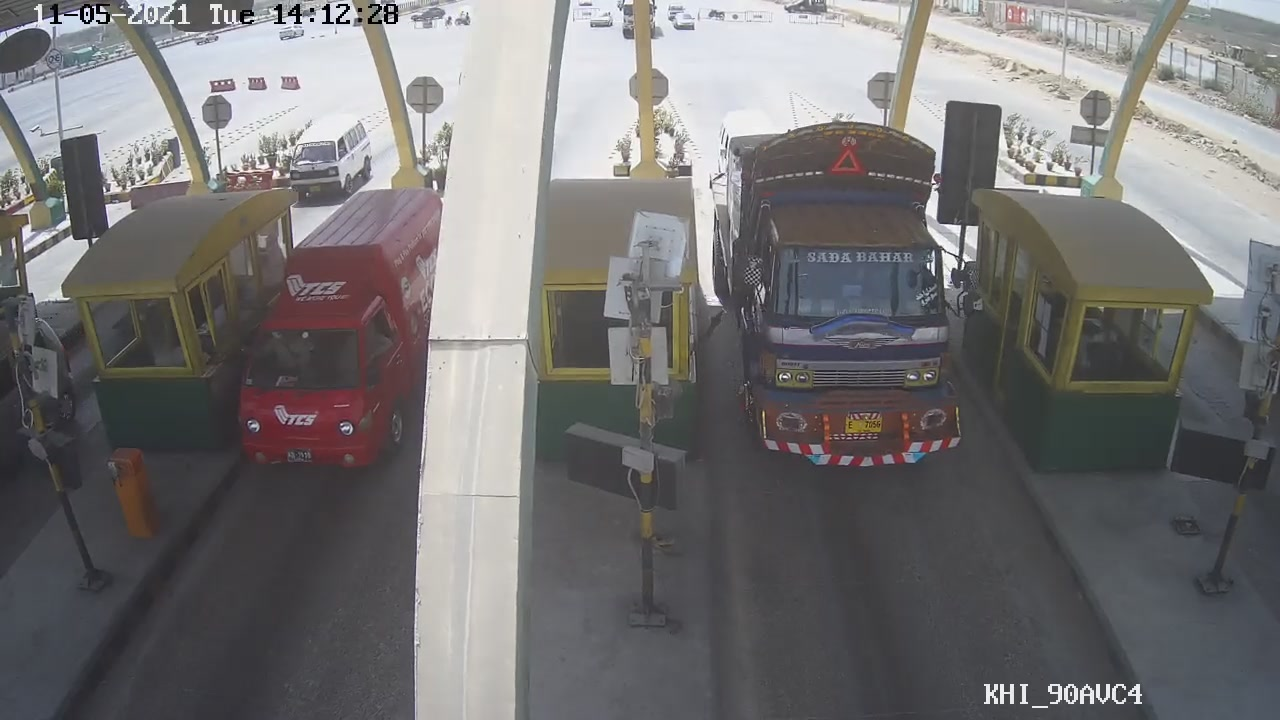F5: (709, 102, 963, 476)
